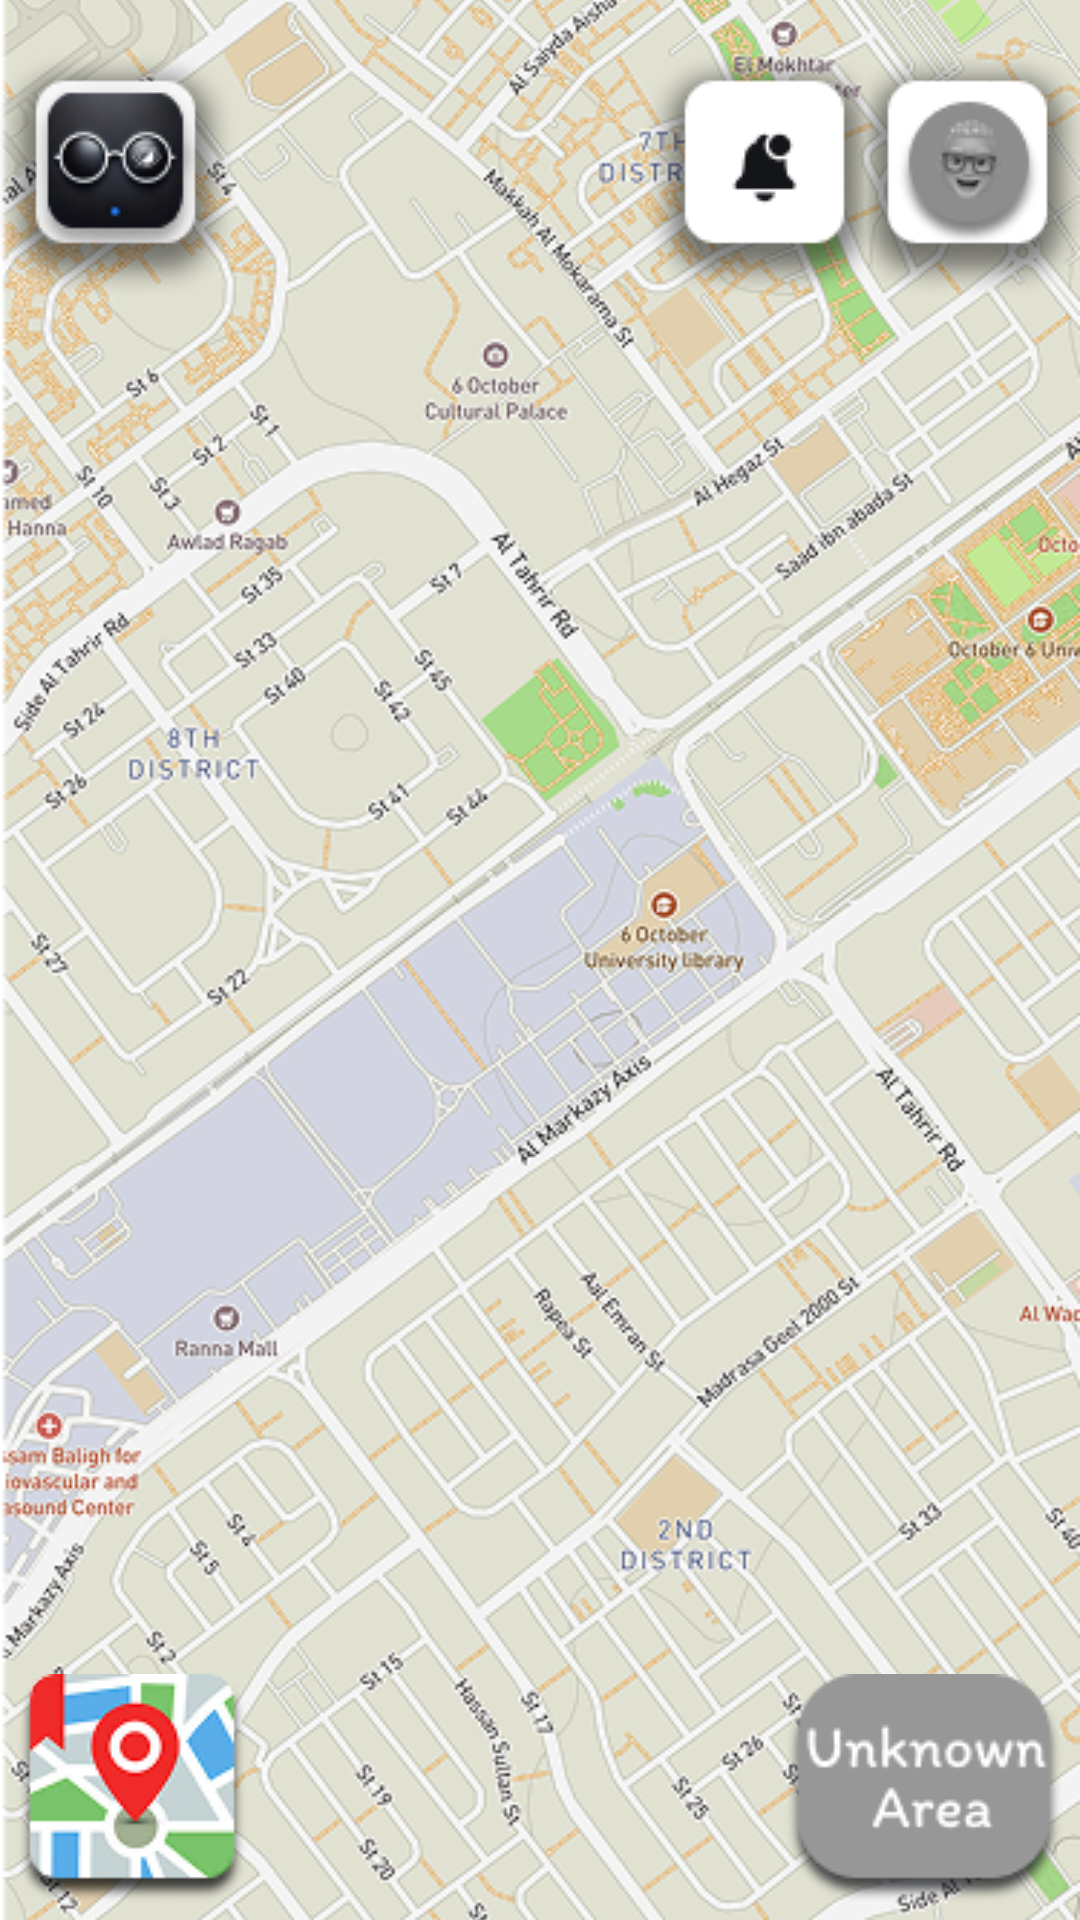

Icon click points for this 1080*1920 phone screenshot, format [x,y]:
notification: [753,174]
places save: [132,1788]
profile: [973,174]
